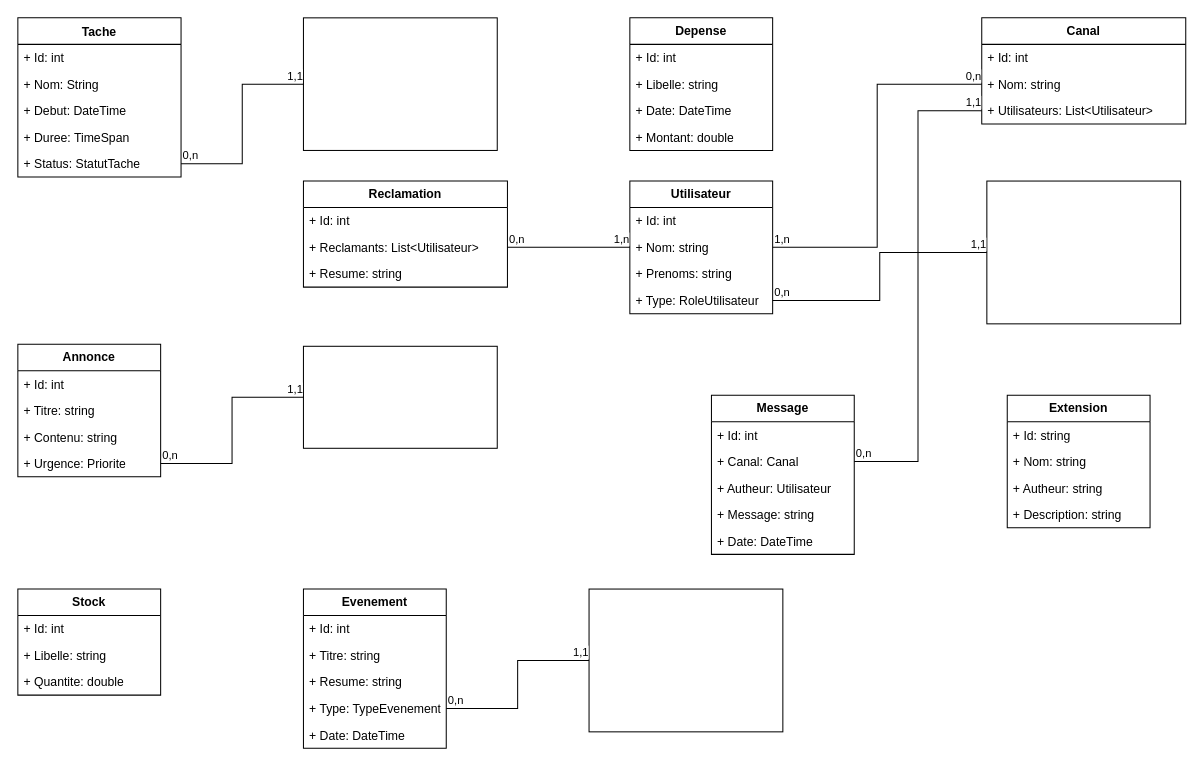
Some shapes in this 1204 by 769 pixel diagram are drawn without their labels. Here are the shapes that lost their labels. From the top down, the centre of each, then its label:
At pixel 399 83: "<<enumeration>> StatutTache Planned InProgress Complete Paused Stopped".
At pixel 1083 252: "<<enumeration>> RoleUtilisateur Administrateur MaitreChantier Ouvrier Artisan".
At pixel 399 396: "<<enumeration>> Priorite NonImportant Important Urgent".
At pixel 685 660: "<<enumeration>> TypeEvenement Delai Accident Incident".
